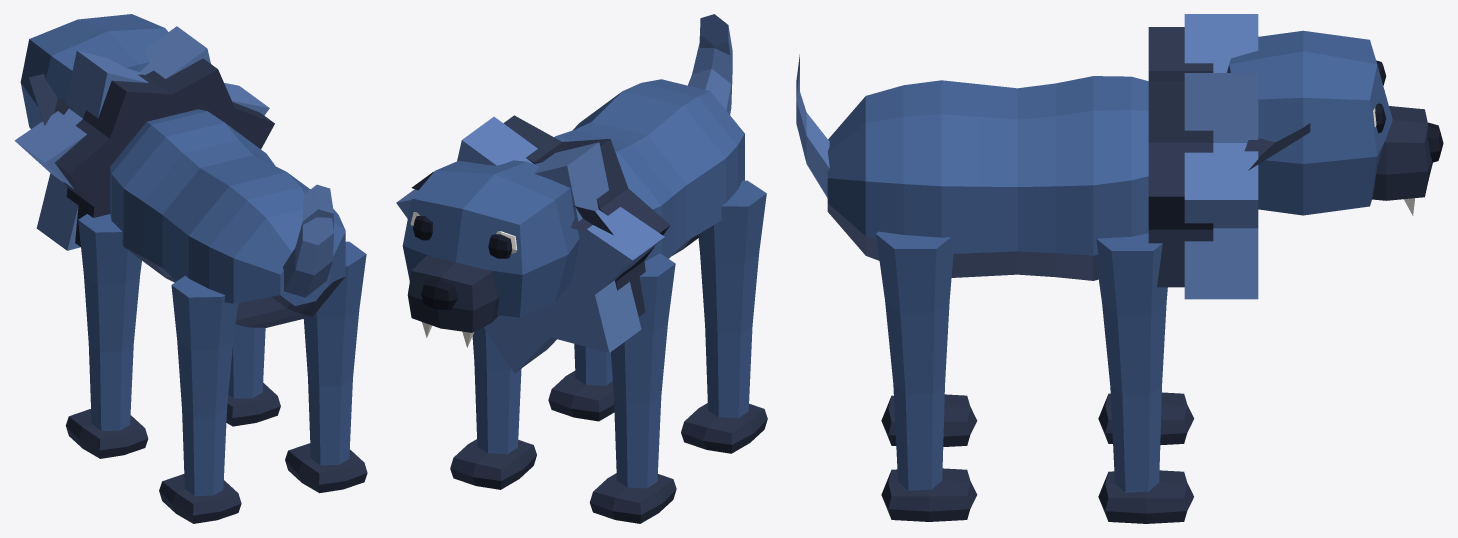
Rendered from hound.glb.
3 renders of one model, left to right at view 1: azimuth 30°, elevation 25°; view 2: azimuth 150°, elevation 25°; view 3: azimuth 270°, elevation 25°, orthographic. The views are drawn at different scales.
Visible parts, largest first — view 1: houndBody, legBackLeft, legFrontLeft, legBackRight, legFrontRight; view 2: houndBody, legBackLeft, legFrontLeft, legFrontRight, legBackRight; view 3: houndBody, legBackRight, legFrontRight, legBackLeft, legFrontLeft.
Part boxes in pixels (left/top/right/bottom): houndBody: left=14, top=14, right=345, bottom=327; legBackLeft: left=159, top=275, right=241, bottom=523; legFrontLeft: left=65, top=214, right=148, bottom=458; legBackRight: left=285, top=241, right=367, bottom=493; legFrontRight: left=226, top=324, right=280, bottom=426; houndBody: left=396, top=14, right=744, bottom=373; legBackLeft: left=681, top=180, right=767, bottom=453; legFrontLeft: left=589, top=253, right=676, bottom=523; legFrontRight: left=450, top=327, right=536, bottom=489; legBackRight: left=548, top=344, right=614, bottom=421; houndBody: left=796, top=14, right=1443, bottom=299; legBackRight: left=876, top=231, right=977, bottom=521; legFrontRight: left=1095, top=233, right=1193, bottom=523; legBackLeft: left=881, top=394, right=977, bottom=446; legFrontLeft: left=1098, top=392, right=1194, bottom=445.
Bounding box in the file's own units: 0.6785 × 1.03 × 1.4.
